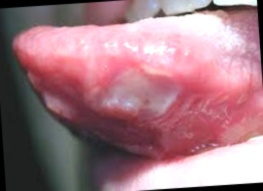Ulcer: (96, 60, 187, 130)
